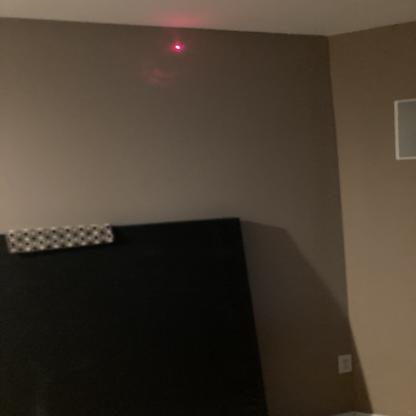target: (170, 38, 187, 56)
